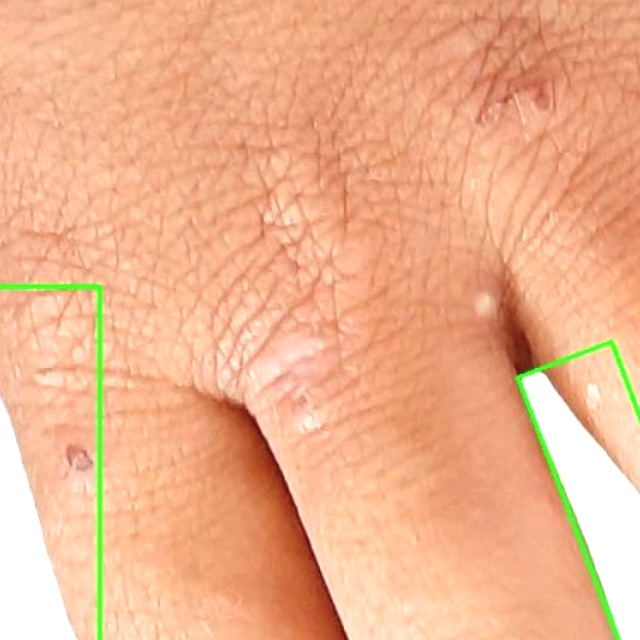Scabies: (514, 340, 639, 639)
